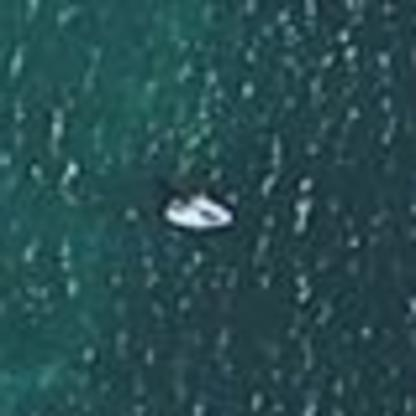ship: (150, 181, 244, 237)
